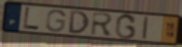D: (68, 9, 91, 35)
G: (114, 13, 139, 40), (45, 8, 67, 33)
I: (141, 15, 150, 41)
L: (23, 6, 41, 31)
R: (90, 11, 115, 37)
